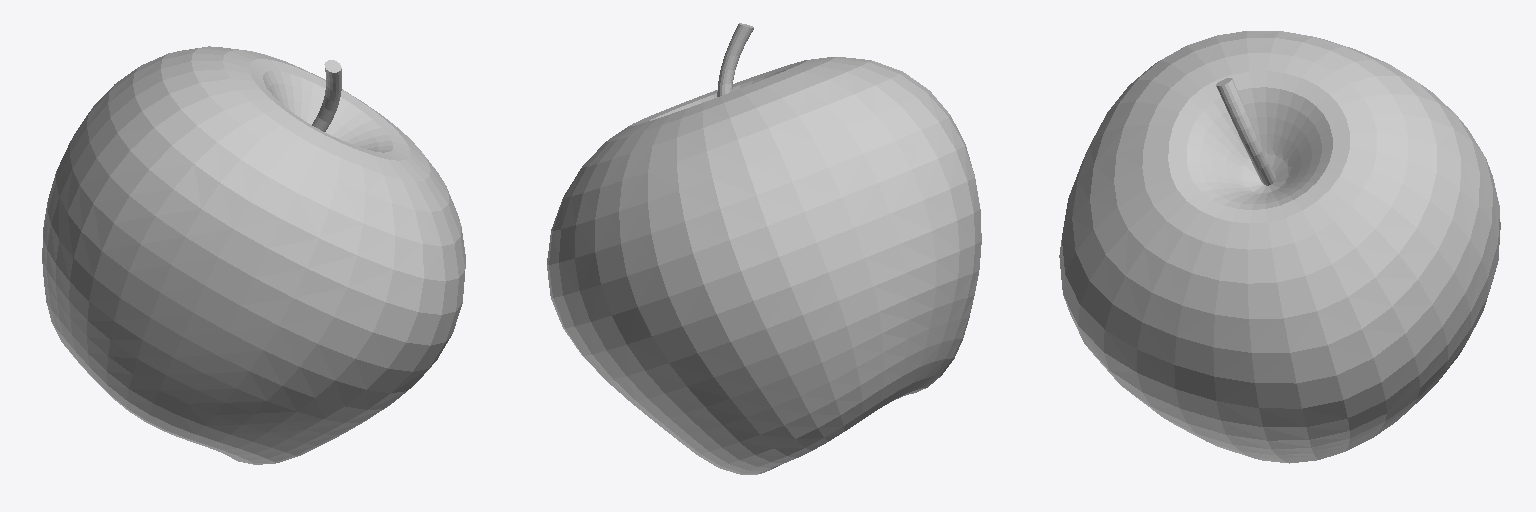
Rendered from manzana.obj.
3 renders of one model, left to right at view 1: azimuth 30°, elevation 25°; view 2: azimuth 150°, elevation 25°; view 3: azimuth 270°, elevation 25°, orthographic.
Parts seen in each view (by area): view 1: apple_Sphere.009; view 2: apple_Sphere.009; view 3: apple_Sphere.009.
Part boxes in pixels (left/top/right/bottom): apple_Sphere.009: left=42, top=46, right=465, bottom=464; apple_Sphere.009: left=547, top=23, right=981, bottom=474; apple_Sphere.009: left=1059, top=31, right=1500, bottom=463.
Size of the model in its own units: 0.7243 by 0.7393 by 0.7352.